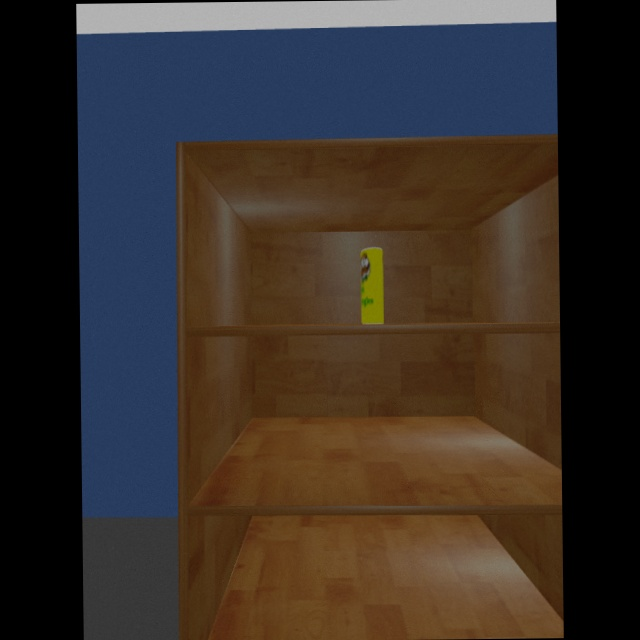chipsdose_gelb: (360, 247, 385, 325)
